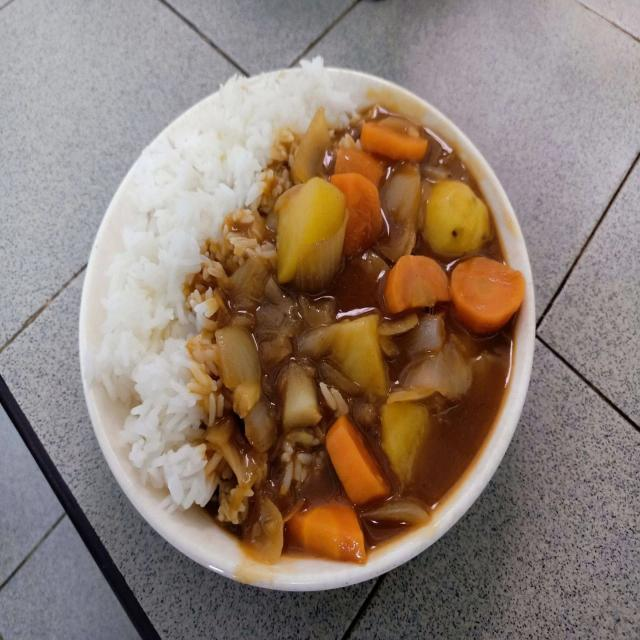cac loai rau cu: (376, 249, 522, 327), (389, 178, 486, 261), (337, 144, 391, 279), (234, 242, 300, 351), (399, 322, 476, 410), (275, 180, 337, 289), (309, 308, 389, 385), (325, 423, 382, 501), (354, 107, 433, 163), (376, 391, 423, 472), (216, 326, 267, 395), (305, 501, 362, 561), (286, 362, 324, 437), (249, 504, 287, 566), (300, 119, 337, 181)
com: (100, 237, 225, 515), (121, 131, 258, 239), (218, 65, 356, 147)
com ca ri: (81, 55, 537, 614)
